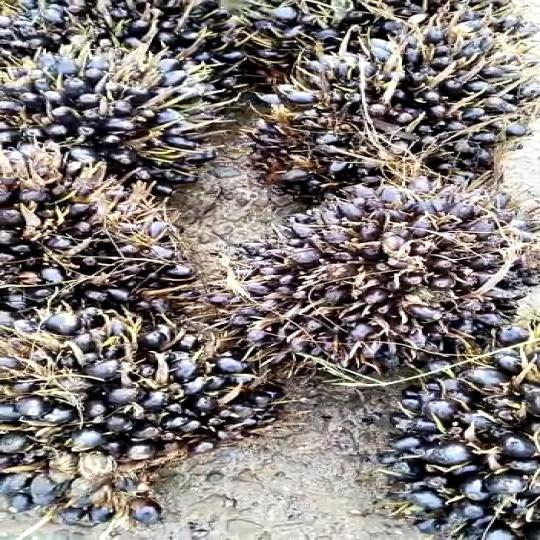mentah: (0, 277, 279, 537), (195, 178, 535, 382), (243, 16, 540, 201), (308, 334, 540, 536), (0, 36, 246, 216), (0, 145, 209, 324)
